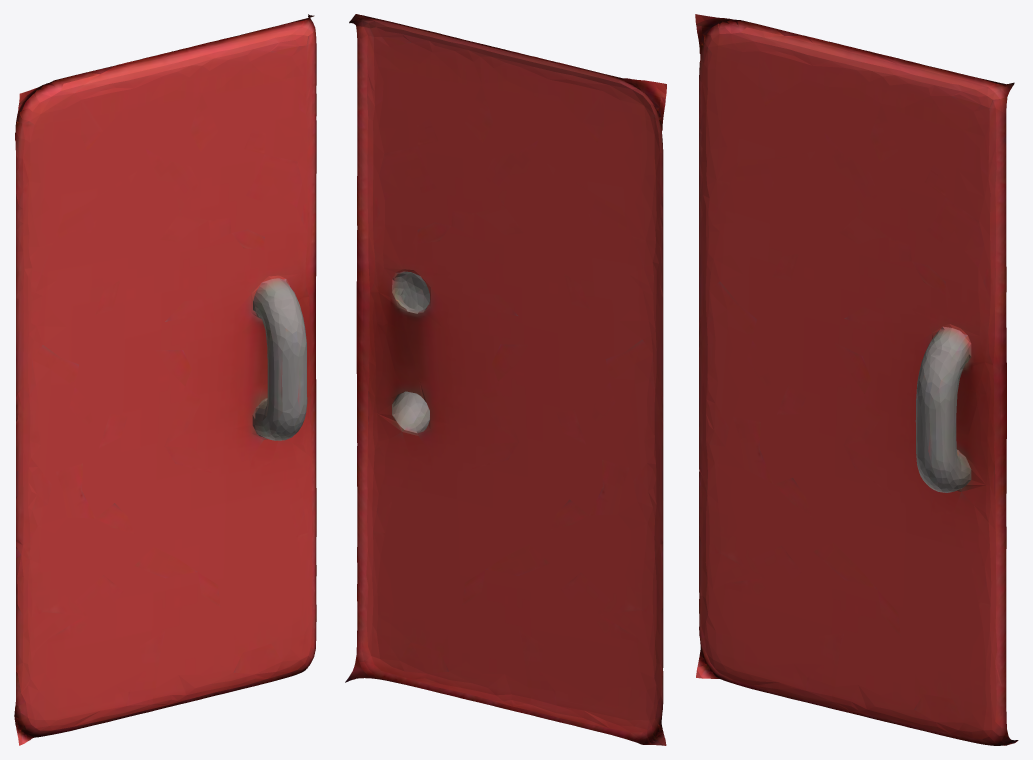
Rendered from door_left.glb.
The picture shows the model from 3 angles, left to right: view 1: azimuth 30°, elevation 25°; view 2: azimuth 150°, elevation 25°; view 3: azimuth 330°, elevation 25°; orthographic projection.
Parts seen in each view (by area): view 1: source_surface_0; view 2: source_surface_0; view 3: source_surface_0.
Part boxes in pixels (box(x1,y1,x2,y2)): source_surface_0: box(14, 14, 316, 745); source_surface_0: box(345, 14, 666, 745); source_surface_0: box(695, 14, 1018, 745).
Bounding box in the file's own units: 0.2578 × 0.5339 × 0.0607.
1 material, 1 textured.
